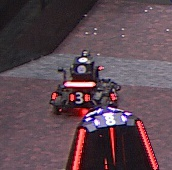armor: (69, 91, 90, 106), (108, 84, 119, 107)
car: (50, 50, 122, 120)
